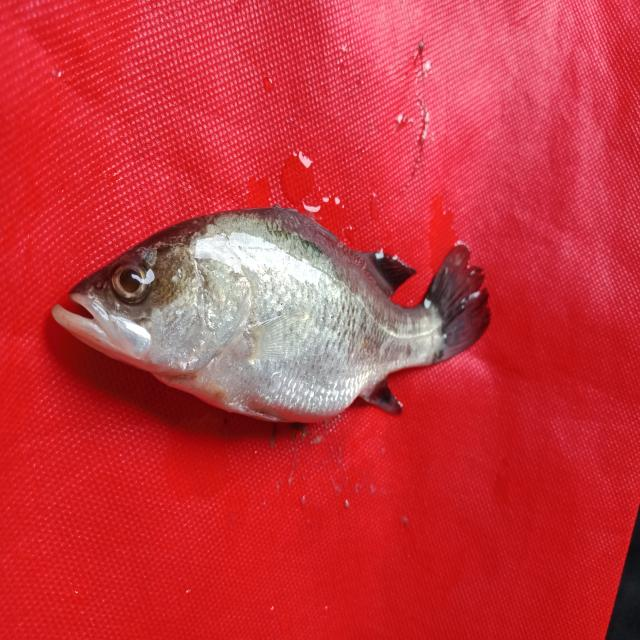ikan: (28, 178, 500, 459)
